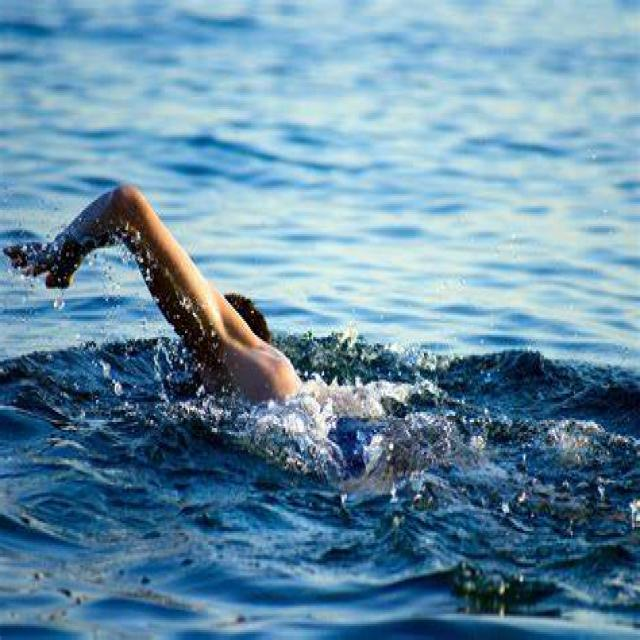swimming: (1, 160, 396, 462)
